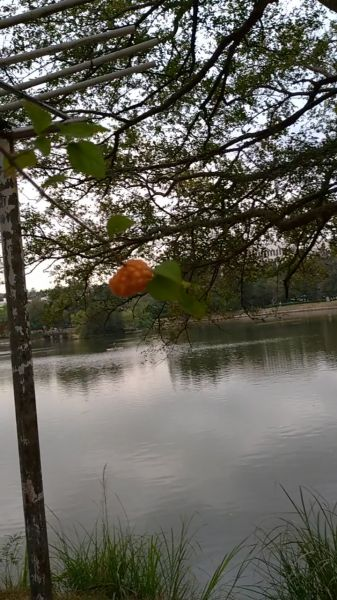eggs: (106, 260, 160, 303)
